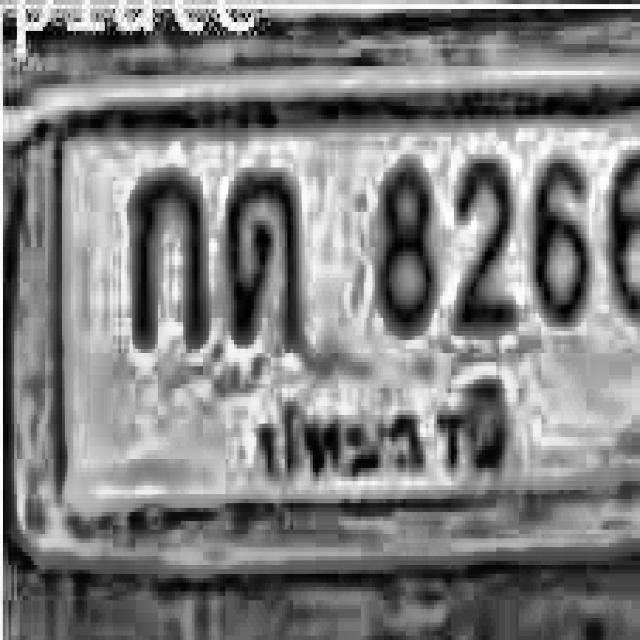license-plate: (14, 62, 640, 560)
